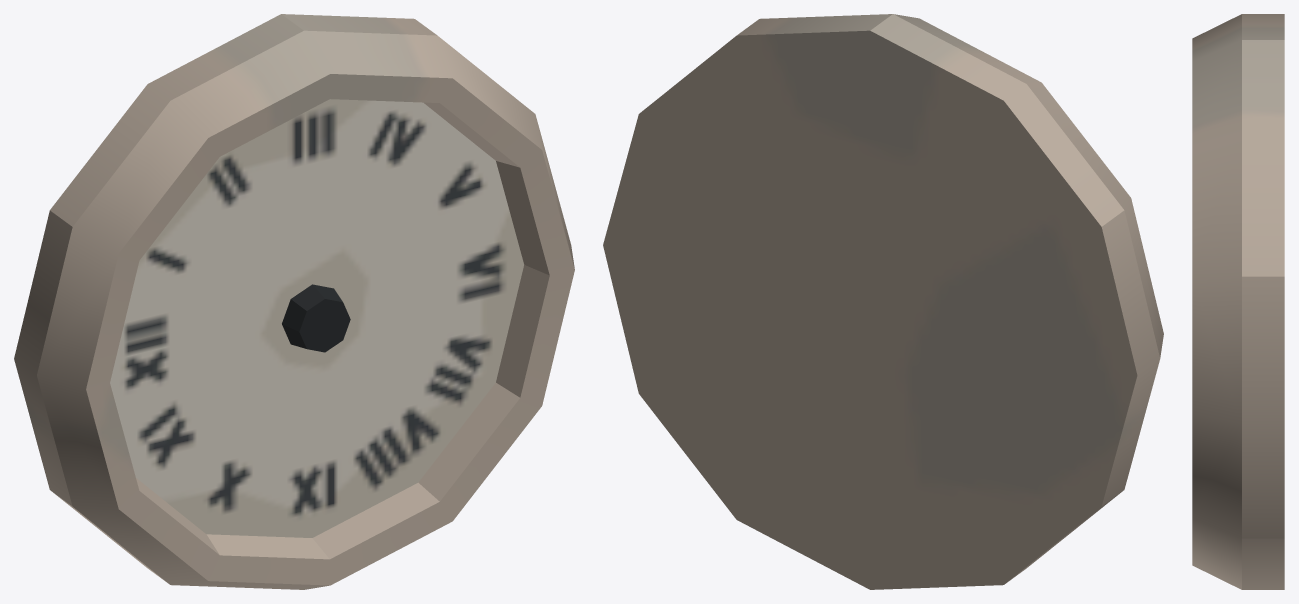
File: SM_Bld_Clock_Tower_Clock_01.glb
3 renders of one model, left to right at view 1: azimuth 30°, elevation 25°; view 2: azimuth 150°, elevation 25°; view 3: azimuth 270°, elevation 25°, orthographic. The views are drawn at different scales.
Parts seen in each view (by area): view 1: SM_Bld_Clock_Tower_Clock_01; view 2: SM_Bld_Clock_Tower_Clock_01; view 3: SM_Bld_Clock_Tower_Clock_01.
Boxes of the visible parts, x1,y1,x2,y2 form: SM_Bld_Clock_Tower_Clock_01: (14,14,574,589); SM_Bld_Clock_Tower_Clock_01: (603,14,1163,589); SM_Bld_Clock_Tower_Clock_01: (1192,14,1284,589).
Bounding box in the file's own units: 0.983 × 0.983 × 0.157.
1 material, 1 textured.
